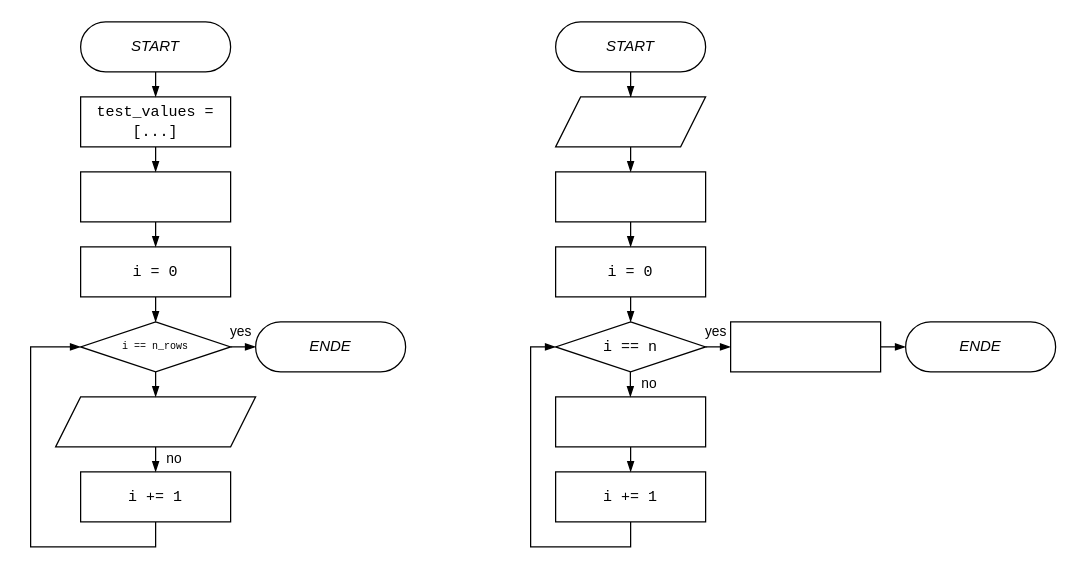
This 1078x579 diagram has some shape labels left out. Each missing label, with the centre of its shape:
Eingabe a, q, n: (630,121)
n_rows = len( ↴ test_values): (155,196)
print(geometric_series( ↴ row[0], row[1], row[2])): (155,421)
return total: (805,346)
total += a * q**i: (630,421)
total = 0: (630,196)
